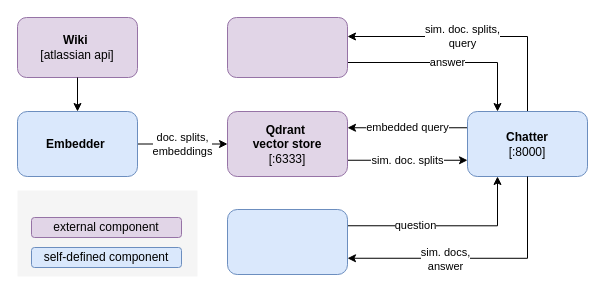
This 605x294 diagram has some shape labels left out. The box of each missing label's shape, as (x1, y1, x2, y2) in pixels:
Frontend [:8501]: (226, 208, 348, 274)
Legend: (17, 190, 197, 276)
Ollama [: 11434]: (226, 16, 348, 78)
